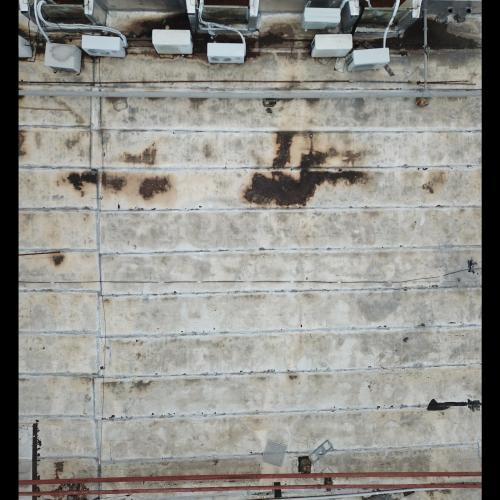conde: (39, 41, 85, 79), (150, 25, 197, 60), (80, 33, 133, 64), (309, 33, 358, 61), (301, 6, 347, 35), (348, 47, 393, 76), (207, 39, 249, 68)
